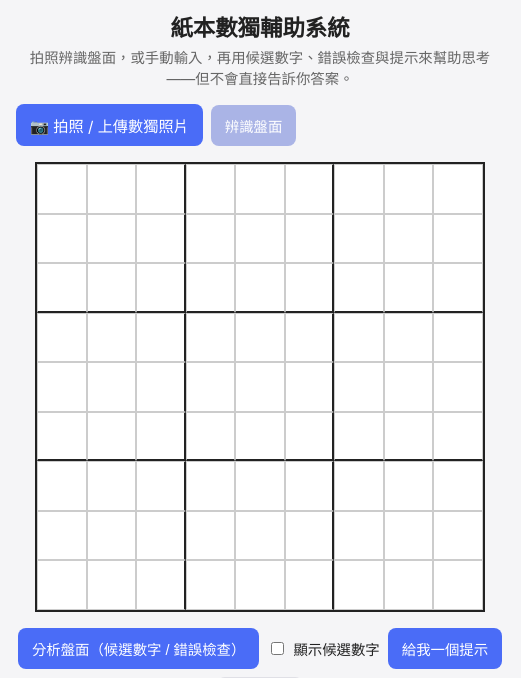
Test: App › shows a completion message when the board is full
Click the button "分析盤面（候選數字 / 錯誤檢查）": (139, 648) [18, 628, 259, 669]
(page scrolled)
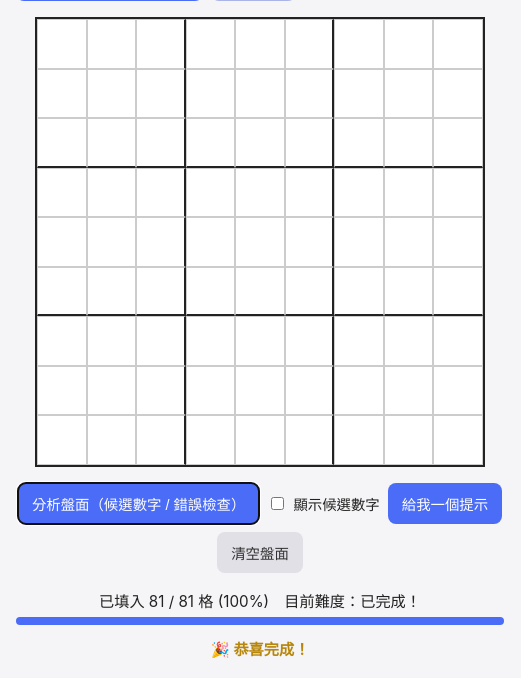
Check: the text "🎉 恭喜完成！" is shown, box [211, 640, 309, 659]
